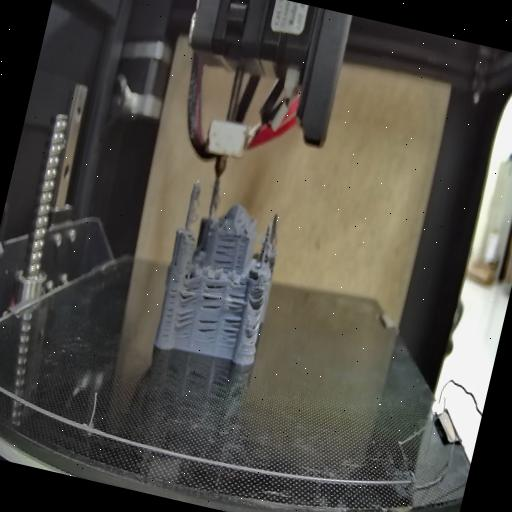cracks: (218, 288, 248, 343), (158, 275, 182, 340), (214, 233, 240, 269), (200, 280, 227, 314), (194, 314, 222, 340), (177, 278, 202, 306), (172, 309, 196, 335), (246, 290, 267, 312), (243, 318, 261, 342)
